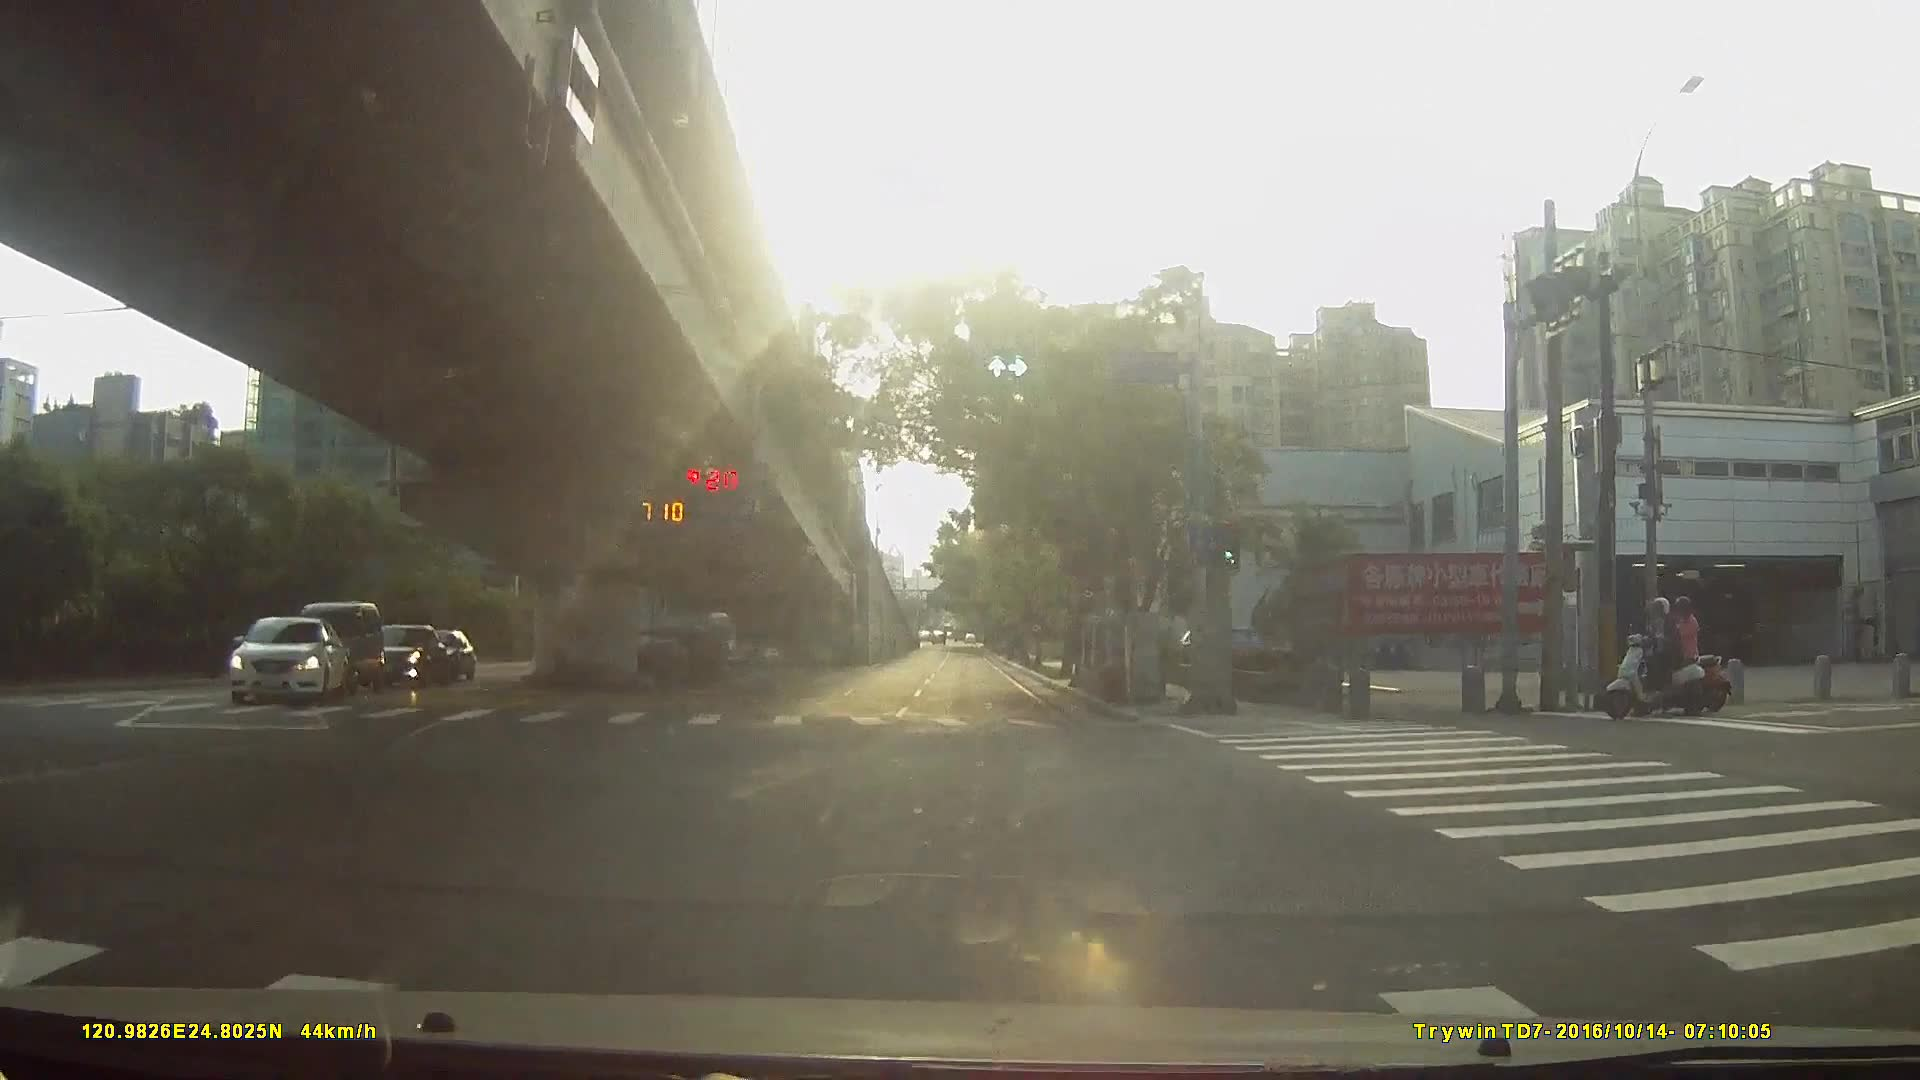rider: (1601, 598, 1717, 720)
vehicle: (216, 615, 342, 706), (287, 601, 376, 696), (598, 624, 730, 686), (356, 622, 447, 687)
